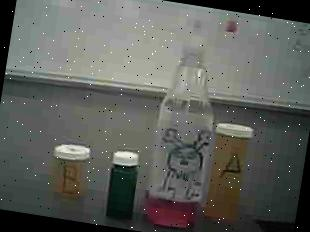Bottle A: (194, 109, 262, 232)
Bottle B: (42, 136, 99, 208)
Bottle C: (99, 144, 146, 227)
hazard: (136, 6, 238, 232)
